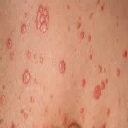Psoriasis: (21, 51, 70, 86), (35, 8, 51, 33), (91, 82, 107, 99), (6, 34, 16, 51)
